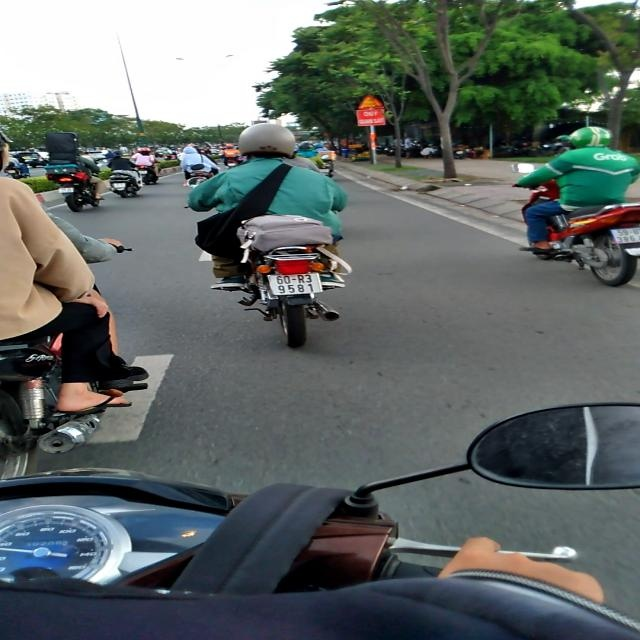bien_nguy_hiem: (356, 94, 384, 110)
